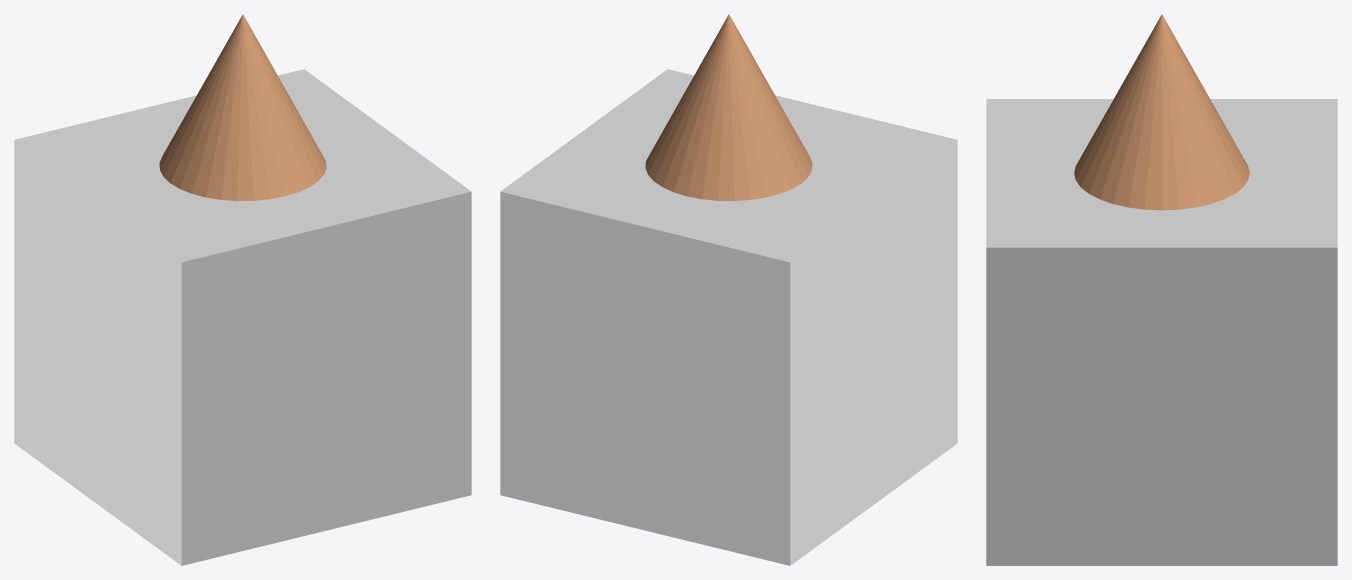
Rendered from xformcommonapi.glb.
3 views of the same model, side by side, from view 1: azimuth 30°, elevation 25°; view 2: azimuth 150°, elevation 25°; view 3: azimuth 270°, elevation 25° (orthographic). The views are drawn at different scales.
Parts seen in each view (by area): view 1: Cube, Cone; view 2: Cube, Cone; view 3: Cube, Cone.
Part boxes in pixels (x1,y1,x2,y2): Cube: [14, 69, 471, 565]; Cone: [159, 14, 326, 200]; Cube: [500, 69, 957, 565]; Cone: [645, 14, 812, 200]; Cube: [986, 99, 1337, 565]; Cone: [1074, 14, 1249, 210].
Bounding box in the file's own units: 2 × 3 × 2.
